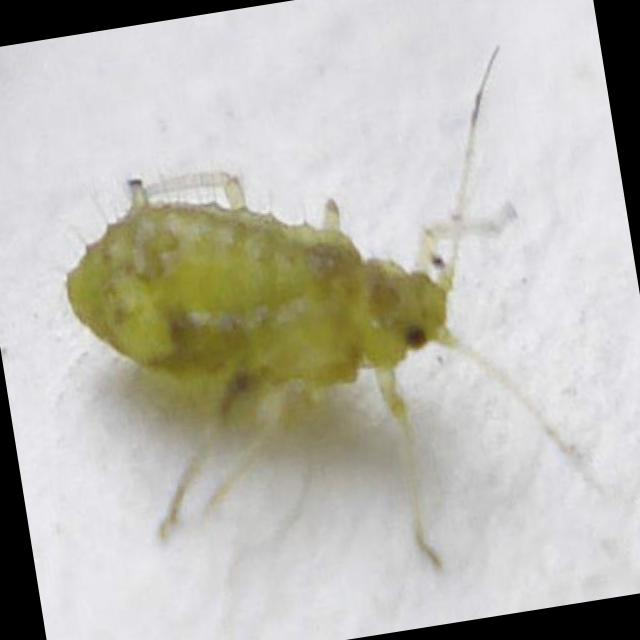aphid: (29, 58, 588, 586)
